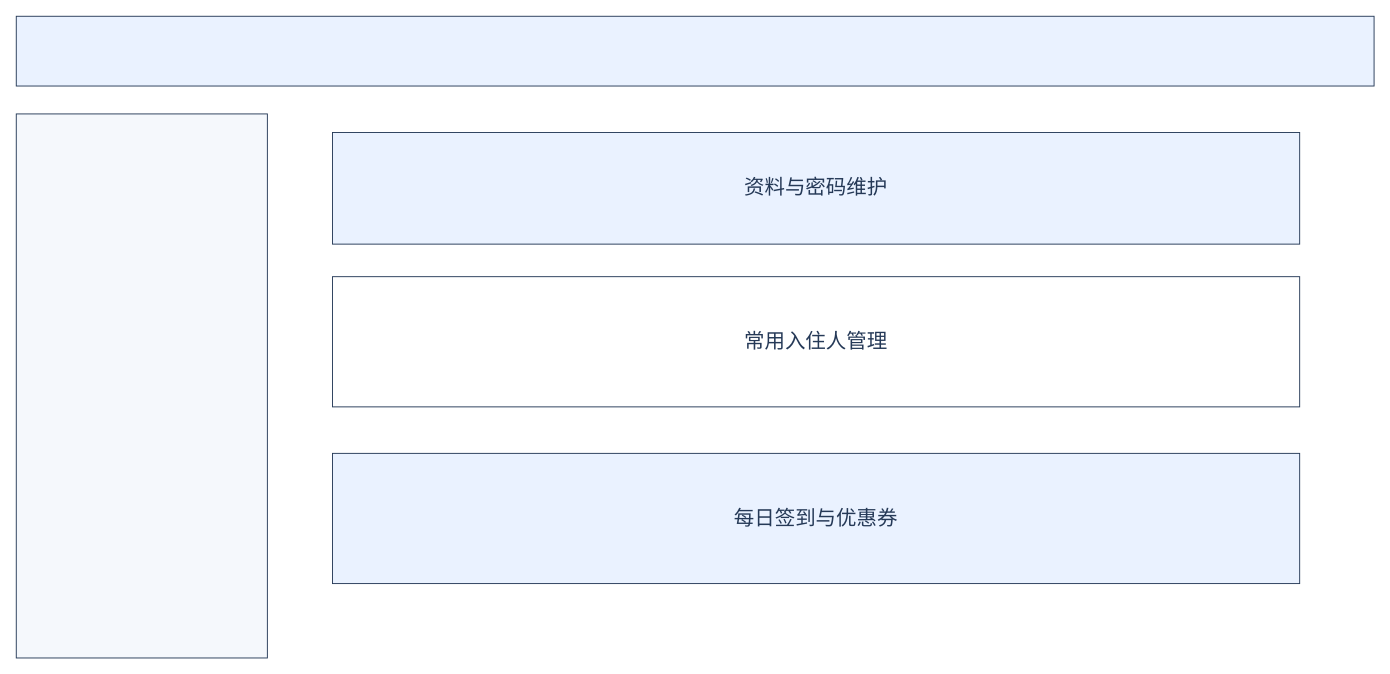
Some shapes in this 1390 by 674 pixel diagram are drawn without their labels. The centre of each missing label's shape, as x and y in pixels:
个人中心: [141,385]
智慧酒店预订与运营管理系统: [694,50]
